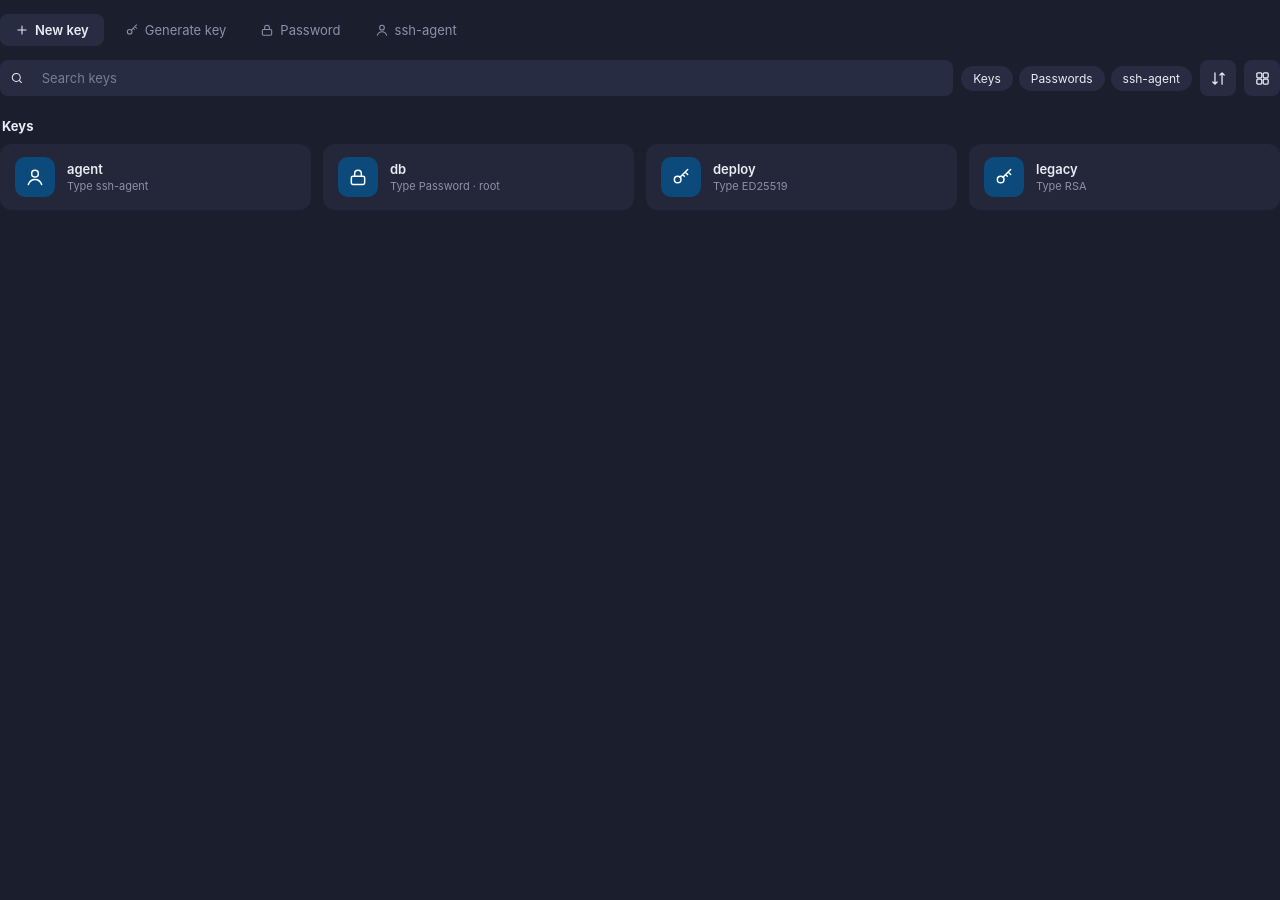
New key panel › opens docked next to the list with a draft card that follows the label
The image size is (1280, 900).
Click the button "New key" at (52, 30), box [0,14,104,46]
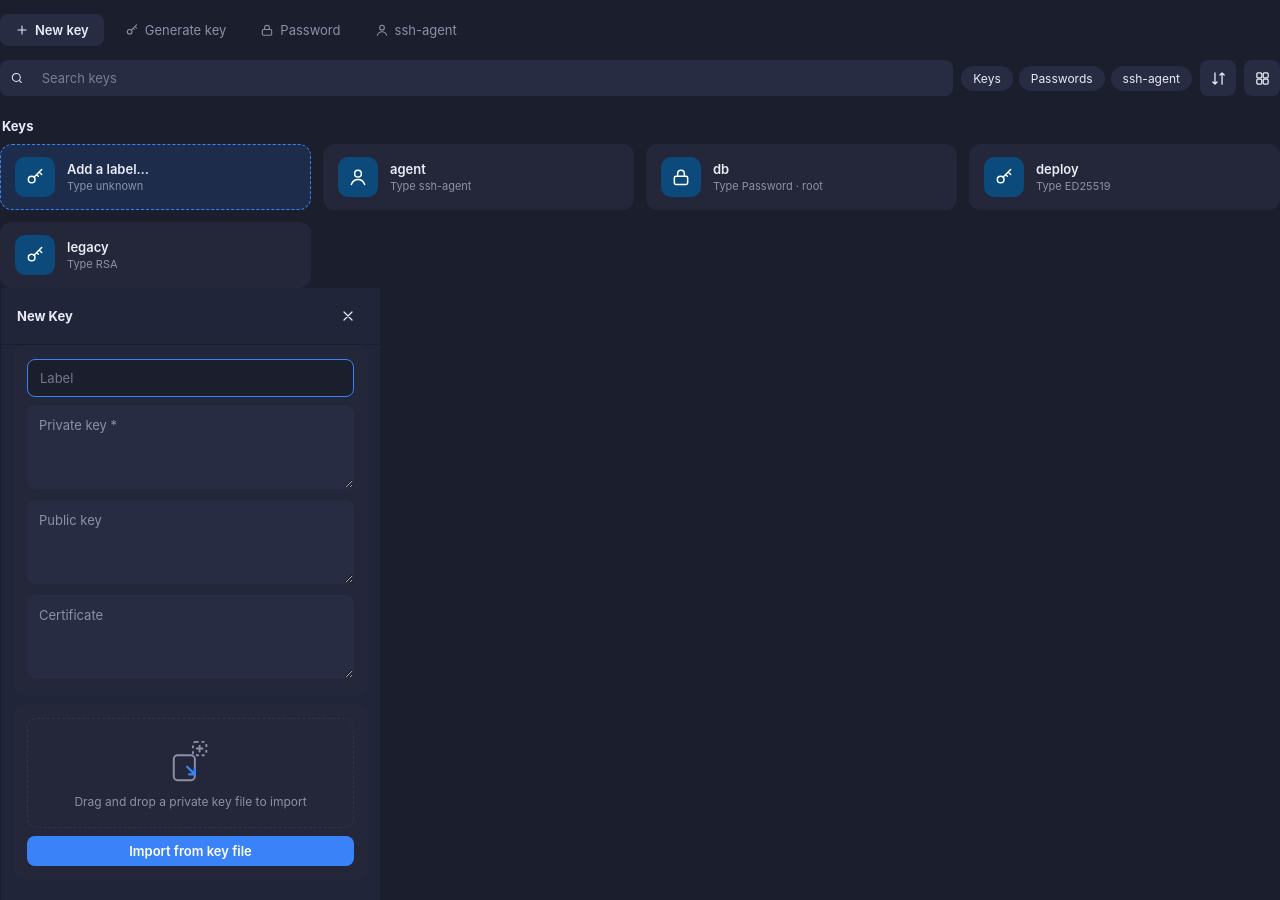
Result: the element with test id "draft-card" shows "Add a label…" at [67,161,149,177]
Type "prod-key" into the field labelled "Label" at (190, 378), box [27,359,354,397]
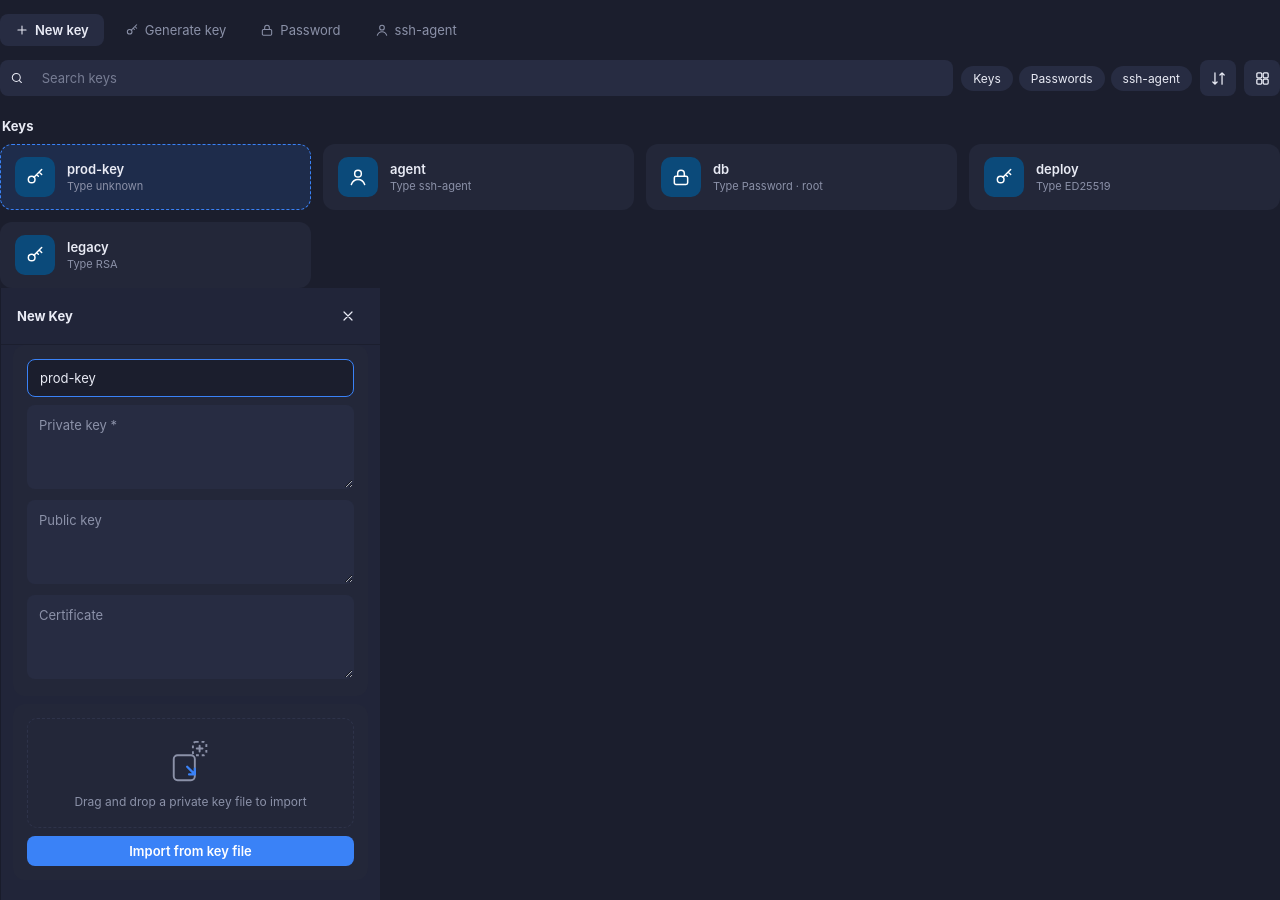
Expected: the list named "Identities" is shown, [0,144,1279,288]
Result: the element with test id "draft-card" shows "prod-key" at [67,161,124,177]
